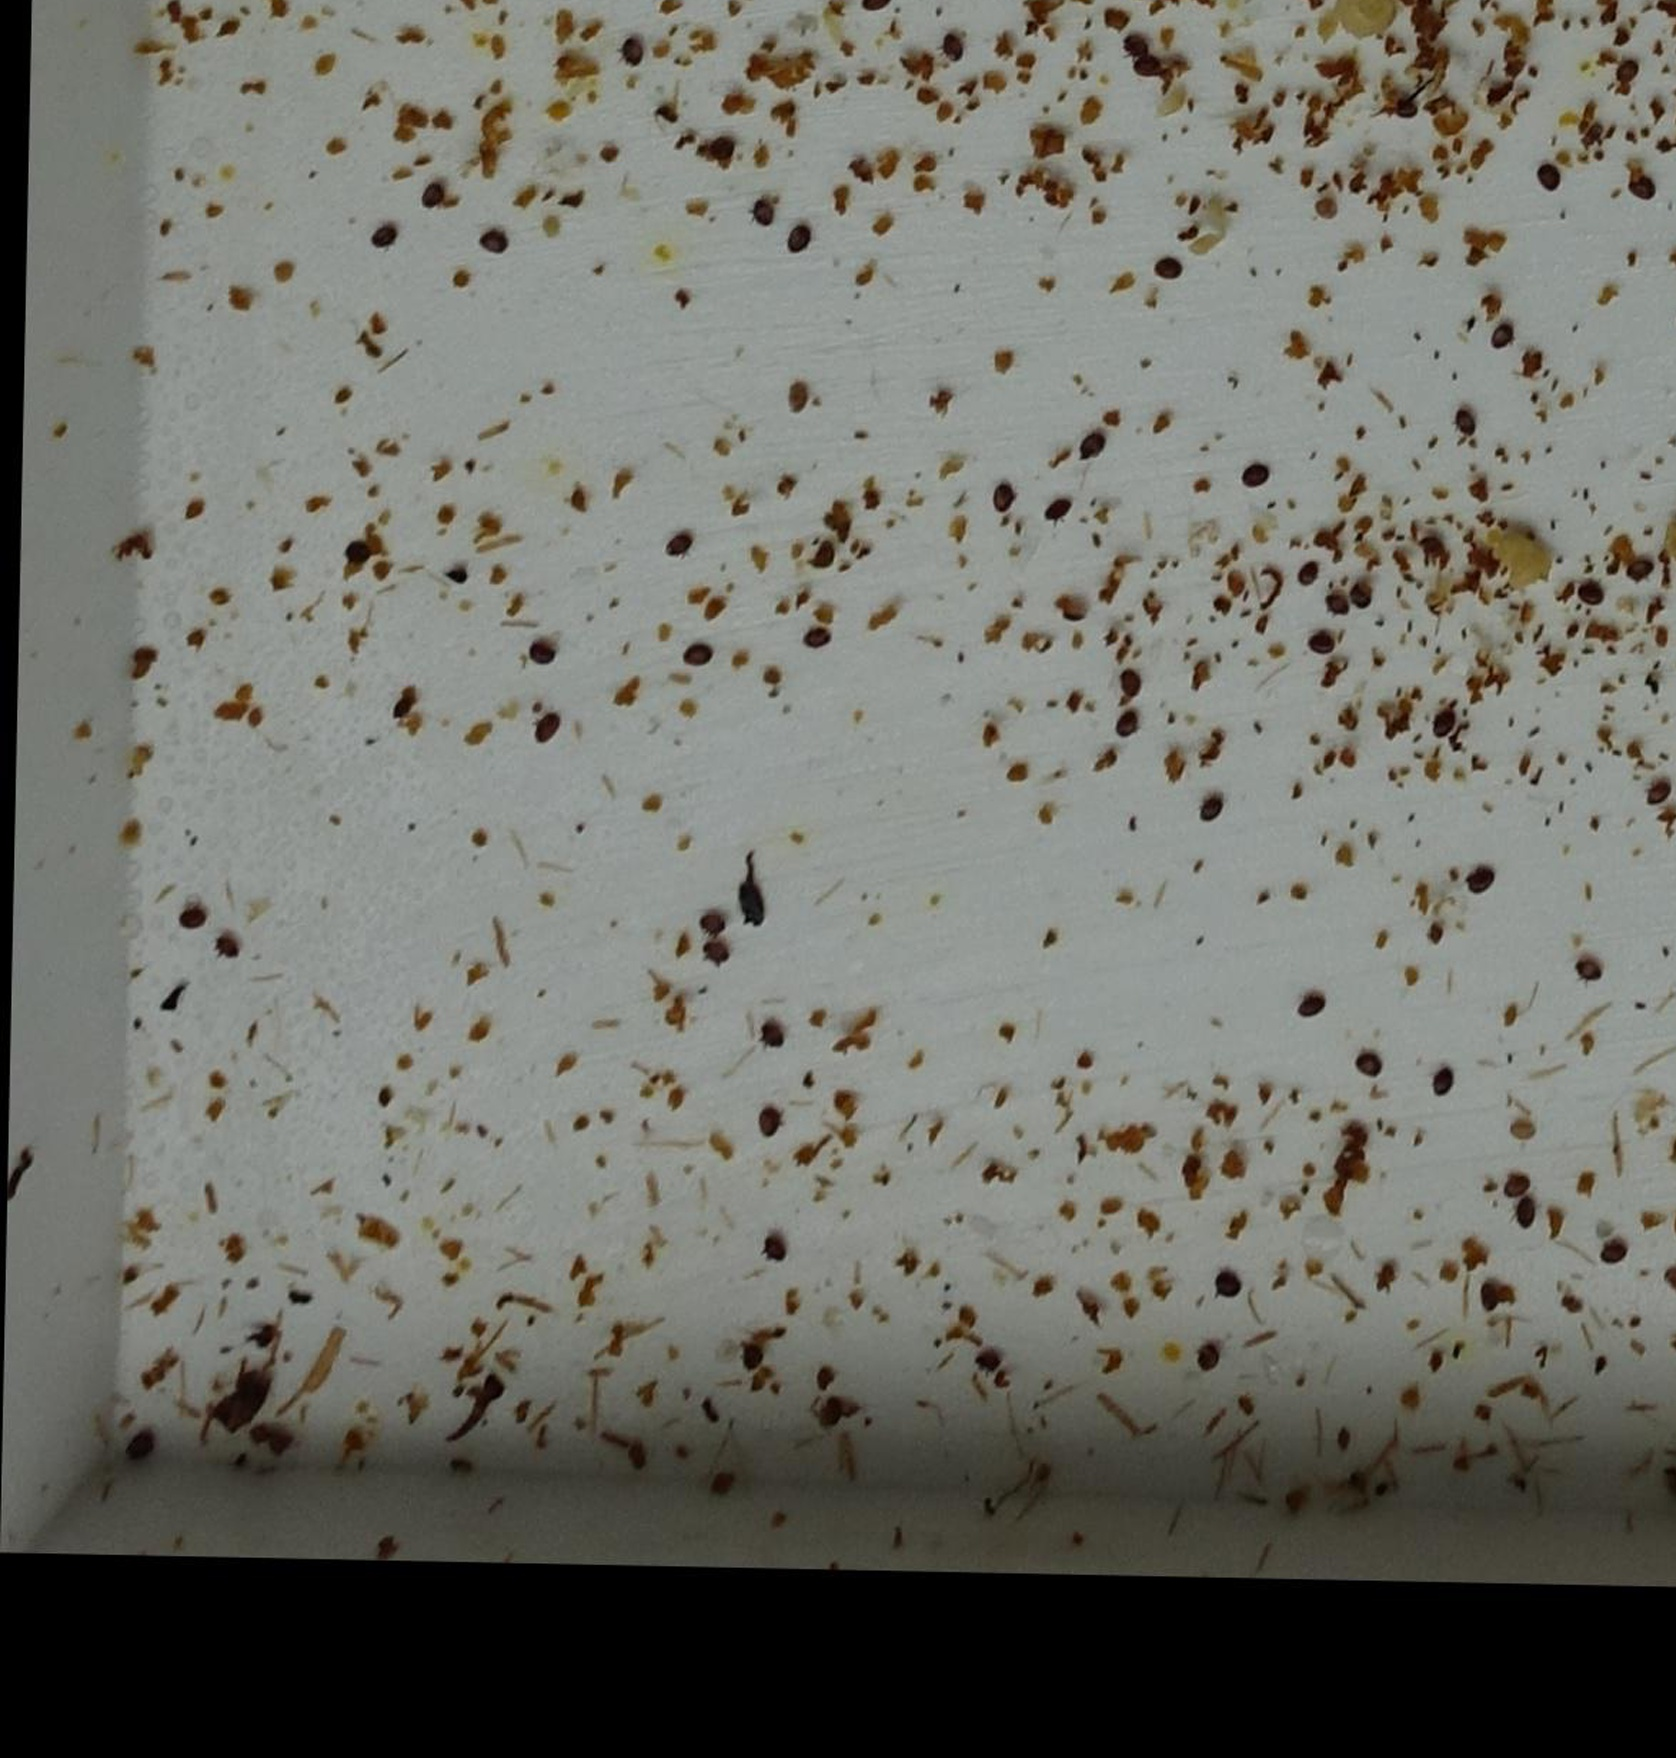Varroa: (336, 531, 380, 573), (380, 683, 422, 727), (1053, 593, 1095, 636), (118, 1424, 158, 1464), (701, 129, 736, 173), (1295, 990, 1328, 1027), (1387, 94, 1420, 129), (527, 633, 559, 669), (1425, 1064, 1456, 1099), (783, 224, 814, 259), (1467, 866, 1499, 899), (1194, 793, 1226, 826), (1503, 1173, 1535, 1205), (1240, 463, 1271, 494), (1574, 579, 1605, 611), (700, 936, 731, 967), (1153, 257, 1183, 290), (1044, 496, 1073, 529), (479, 228, 508, 261), (782, 381, 811, 414), (1535, 163, 1565, 195), (749, 199, 778, 231), (665, 531, 697, 560), (1481, 1279, 1511, 1311), (1130, 50, 1160, 80), (369, 220, 399, 250), (1215, 1275, 1244, 1304), (1078, 429, 1108, 458), (1511, 1201, 1541, 1231), (761, 1235, 789, 1267), (684, 647, 712, 677), (534, 716, 563, 744), (1194, 1344, 1222, 1373), (1645, 779, 1673, 808), (976, 1348, 1004, 1378), (800, 622, 830, 650), (753, 1102, 782, 1132), (213, 932, 243, 961), (1292, 559, 1320, 589), (1351, 581, 1379, 611), (1613, 53, 1641, 83), (698, 910, 727, 940), (1321, 593, 1350, 623), (177, 904, 206, 932), (618, 38, 647, 66), (1114, 713, 1142, 741), (1601, 1235, 1627, 1265), (738, 1342, 764, 1372), (1629, 173, 1656, 202), (1354, 1052, 1383, 1078), (811, 538, 838, 567), (763, 1016, 789, 1044), (1577, 954, 1602, 984), (424, 185, 450, 212), (1430, 713, 1456, 739), (990, 487, 1017, 513), (1116, 675, 1142, 702), (1632, 560, 1659, 587), (1489, 328, 1514, 355), (942, 35, 967, 61), (1307, 633, 1332, 659), (1453, 408, 1478, 433)
